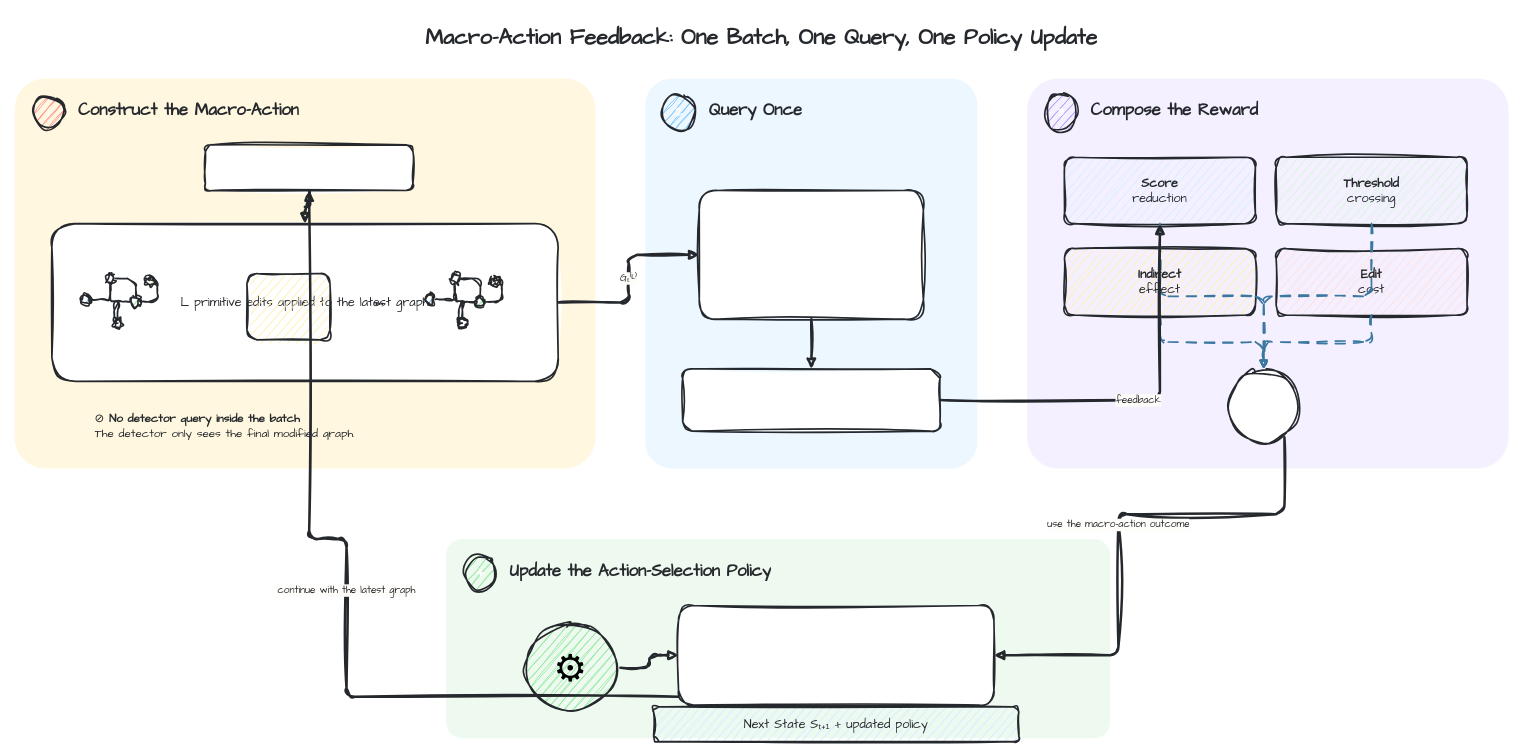
The diagram is 1522 pixels wide and 756 high, and some of its shapes have lost their labels. The centre of each missing label's shape, as x and y in pixels:
"Action-Selection Policy ────●──────── ────────●────" goes at [835,655].
"Black-Box Detector query → f(·)" goes at [811,254].
"Current State Sₜ" goes at [308,167].
"rₜ" goes at [1263,406].
"✎ edit 1" goes at [288,306].
"✓ Observable Feedback scores + alert status" goes at [810,400].
